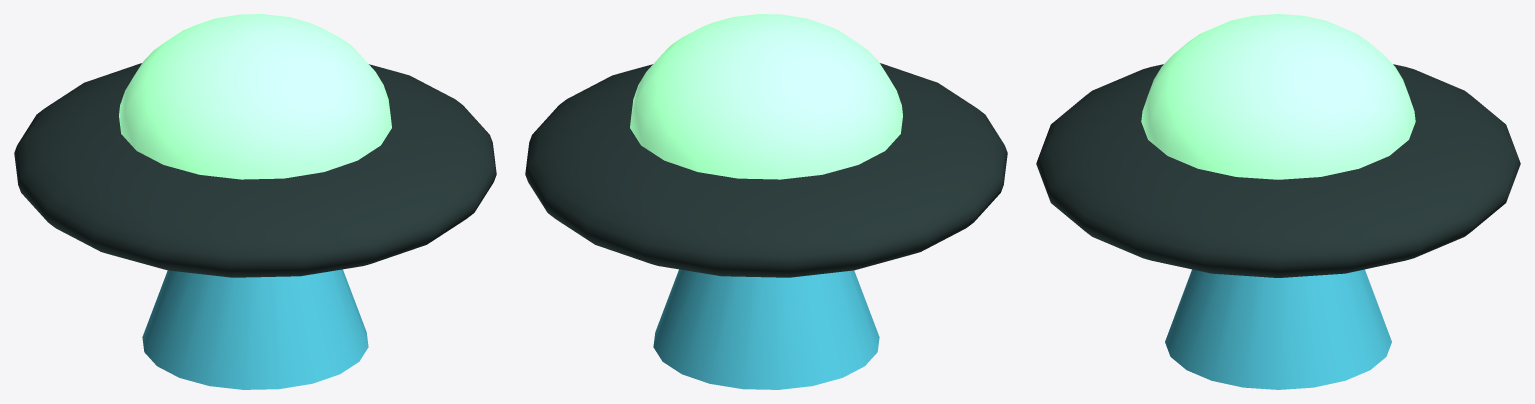
File: UFO.fbx
3 renders of one model, left to right at view 1: azimuth 30°, elevation 25°; view 2: azimuth 150°, elevation 25°; view 3: azimuth 270°, elevation 25°, orthographic.
Visible parts, largest first — view 1: dish, cockpit, exhaust; view 2: dish, cockpit, exhaust; view 3: dish, cockpit, exhaust.
Part boxes in pixels (x1=…): dish: x1=14, y1=63, x2=496, y2=277; cockpit: x1=119, y1=14, x2=391, y2=179; exhaust: x1=142, y1=269, x2=368, y2=389; dish: x1=525, y1=63, x2=1007, y2=277; cockpit: x1=630, y1=14, x2=902, y2=179; exhaust: x1=653, y1=269, x2=879, y2=389; dish: x1=1036, y1=64, x2=1520, y2=277; cockpit: x1=1141, y1=14, x2=1415, y2=179; exhaust: x1=1165, y1=269, x2=1391, y2=389.
Size of the model in its own units: 2 by 1.42 by 2.
Materials: 3 (1 with a texture image).
